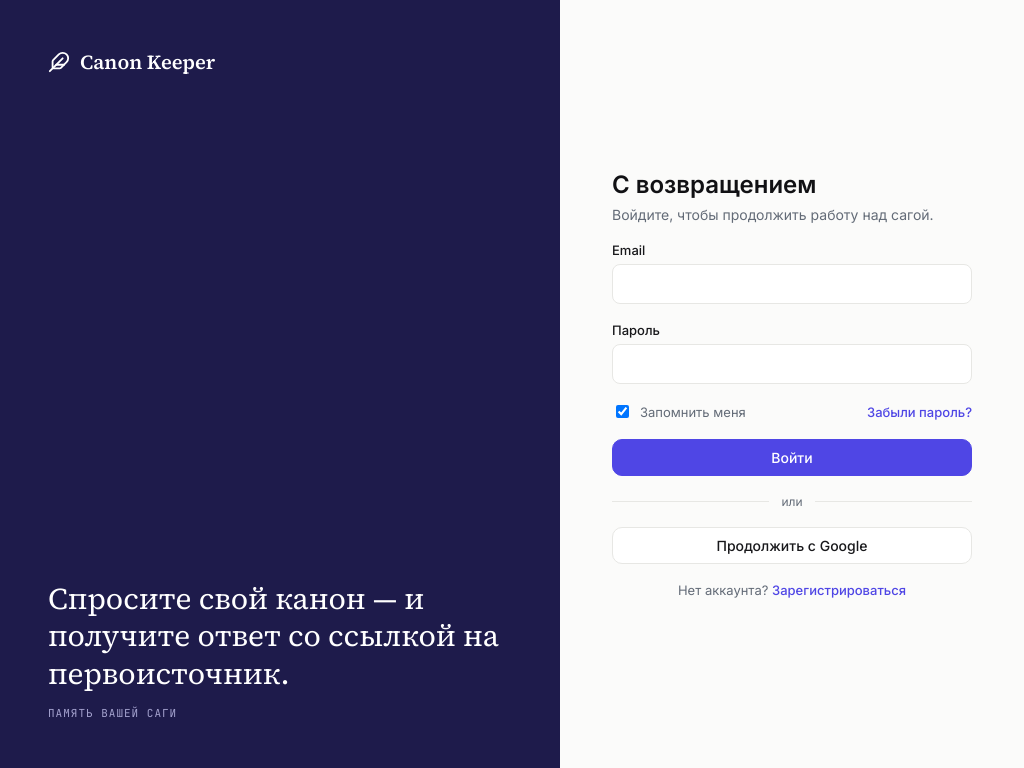
Test: AuthPage › keeps login action clickable and reports missing credentials
Click the button "Войти" at x=792, y=458, box [612,439,972,476]
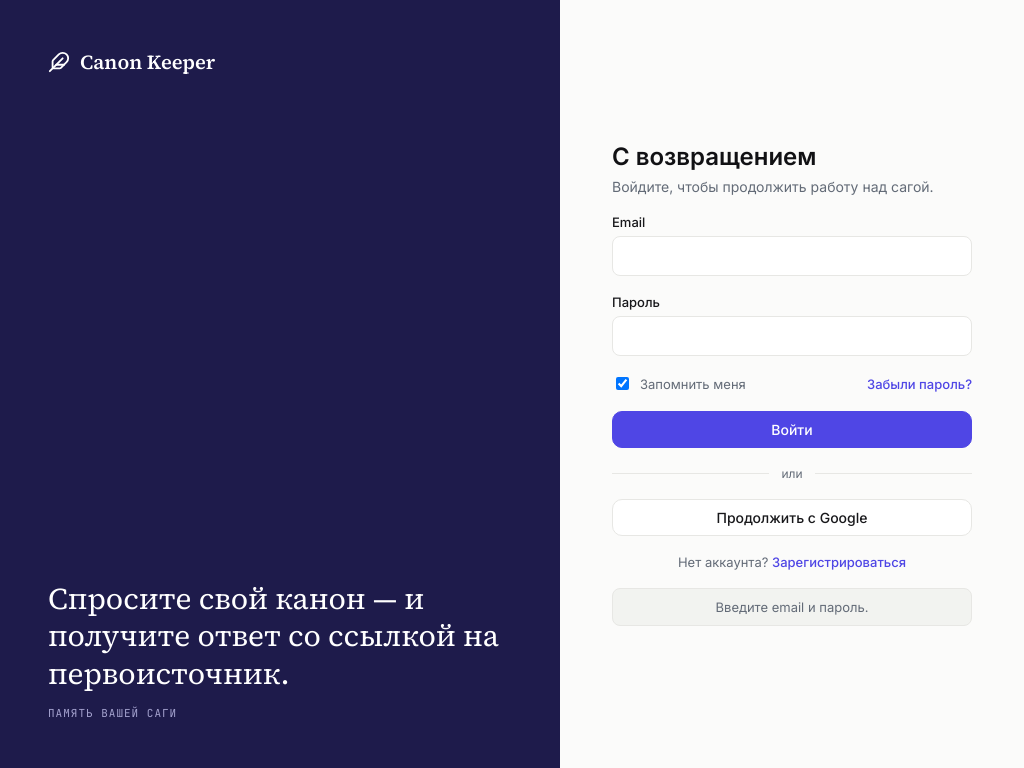
Expected: the button "Войти" is enabled, [612,411,972,448]
Now the text "Введите email и пароль." is shown, box [612,588,972,626]
